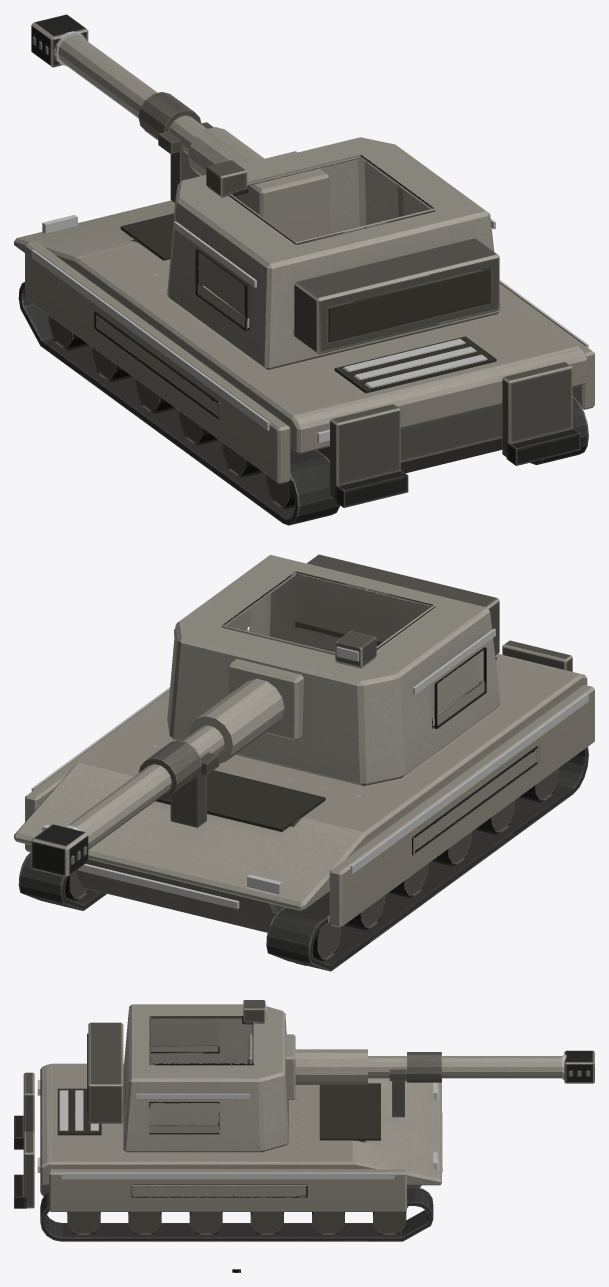
File: ord_mandate.fbx
The picture shows the model from 3 angles, top to bottom: view 1: azimuth 30°, elevation 25°; view 2: azimuth 150°, elevation 25°; view 3: azimuth 270°, elevation 25°; orthographic projection. The views are drawn at different scales.
Parts seen in each view (by area): view 1: base_bar, turret_bar, barrel_bar, trackL_bar, base_glow_running_bar, turret_glow_running_bar, trackR_bar; view 2: base_bar, turret_bar, barrel_bar, trackL_bar, base_glow_running_bar, trackR_bar, turret_glow_running_bar; view 3: base_bar, turret_bar, trackR_bar, barrel_bar, base_glow_running_bar, turret_glow_running_bar.
Boxes of the visible parts, <box> form: base_bar: <box>14,122,594,507</box>; turret_bar: <box>167,137,500,369</box>; barrel_bar: <box>31,14,329,241</box>; trackL_bar: <box>18,282,340,525</box>; base_glow_running_bar: <box>31,249,588,442</box>; turret_glow_running_bar: <box>174,218,495,287</box>; trackR_bar: <box>530,396,588,464</box>; base_bar: <box>14,640,594,932</box>; turret_bar: <box>167,554,500,786</box>; barrel_bar: <box>31,659,303,877</box>; trackL_bar: <box>266,747,588,971</box>; base_glow_running_bar: <box>31,629,588,909</box>; trackR_bar: <box>18,851,106,910</box>; turret_glow_running_bar: <box>174,628,495,694</box>; base_bar: <box>14,1063,441,1211</box>; turret_bar: <box>87,1000,288,1152</box>; trackR_bar: <box>40,1187,433,1241</box>; barrel_bar: <box>247,1034,594,1099</box>; base_glow_running_bar: <box>37,1080,442,1179</box>; turret_glow_running_bar: <box>136,1003,266,1098</box>.
Bounding box in the file's own units: 596 × 618 × 1330.
Materials: 2 (2 with a texture image).
